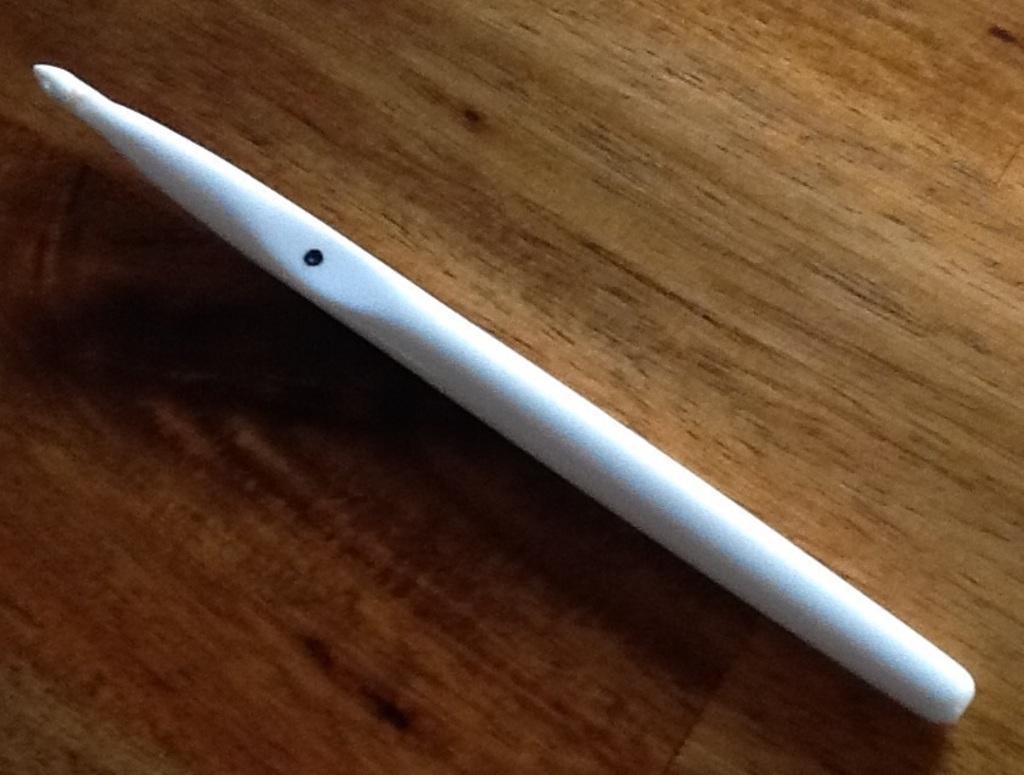pen: (33, 62, 974, 728)
